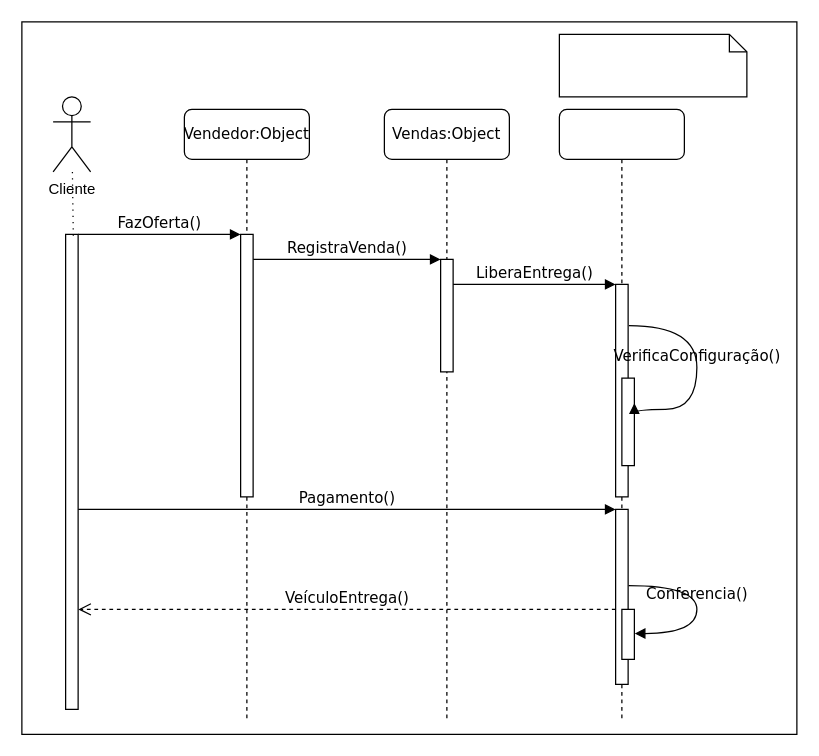
Image size: 819x756. Some labels were removed from this diagram. Here are the shapes that lost their labels. From the top down, the box of each, then its label:
(558, 33, 747, 97): Precisa haver confirmação de todos os acessórios
(558, 108, 684, 722): Estoque:Object
